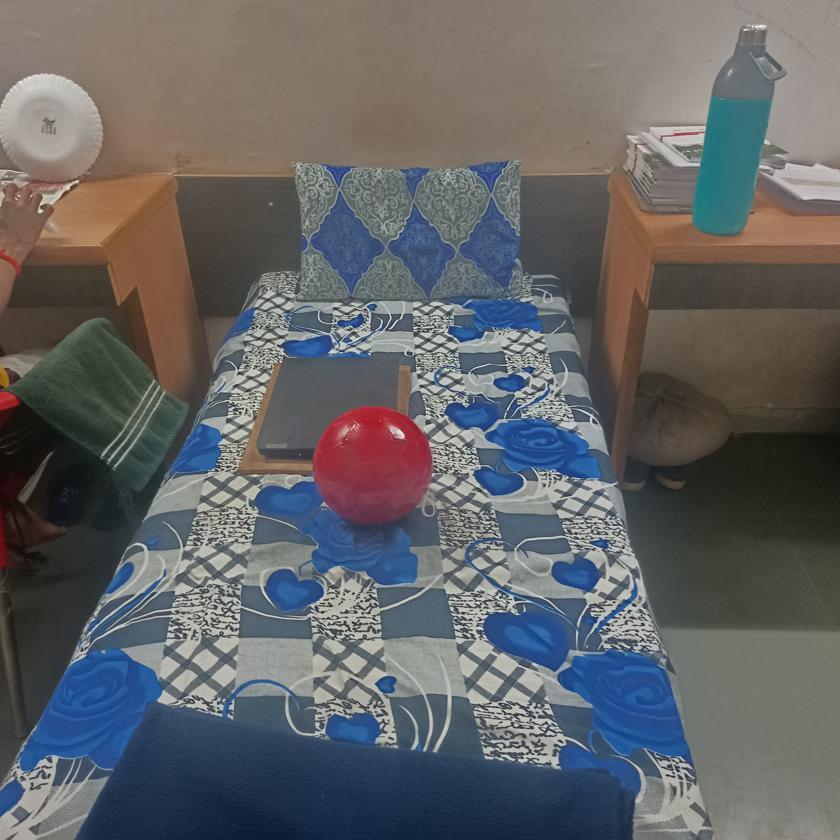Red_Ball: (311, 400, 440, 523)
